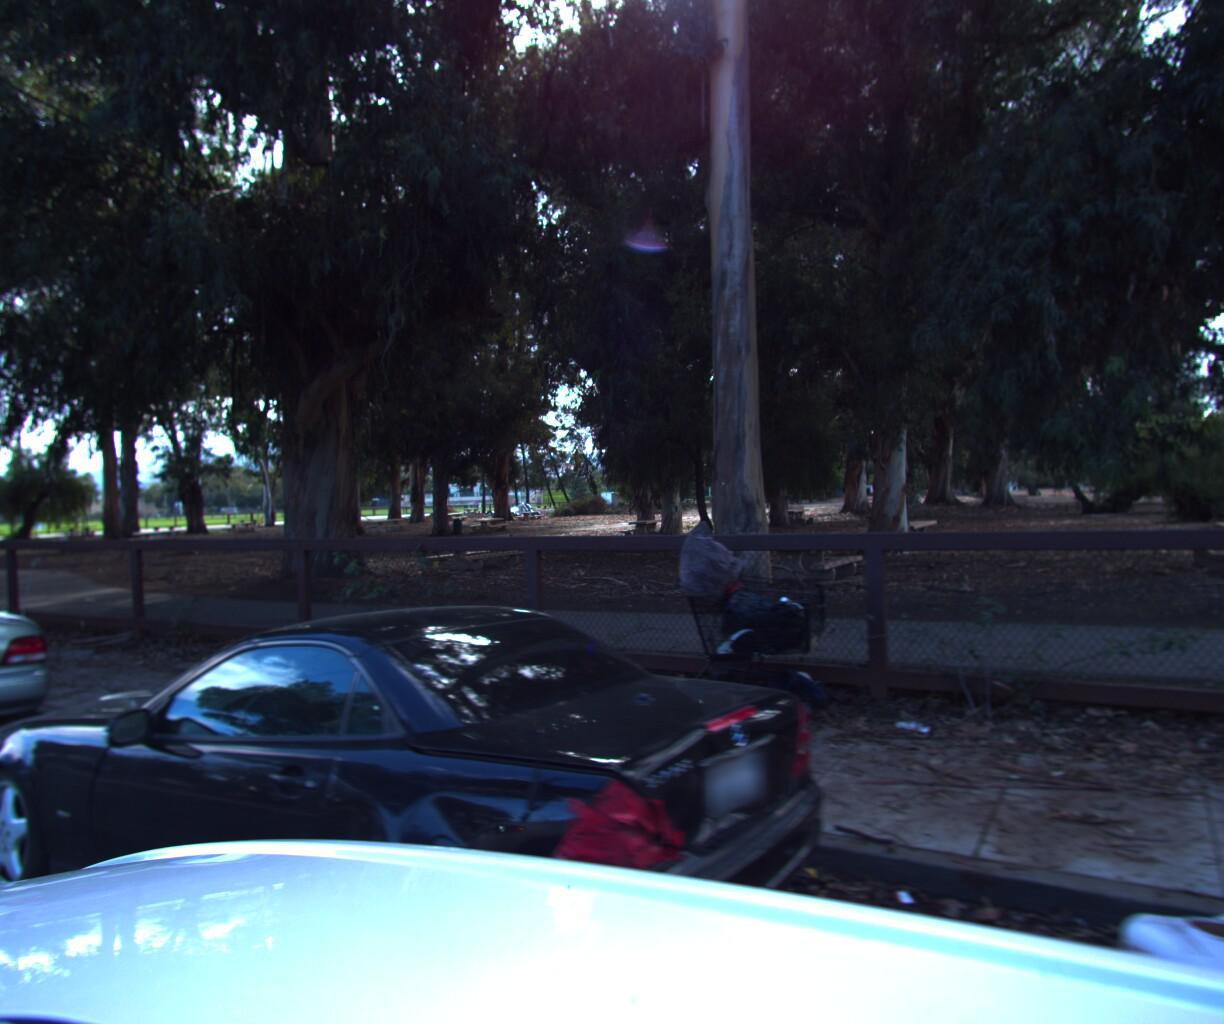car: (0, 577, 842, 1024), (0, 553, 56, 814)
